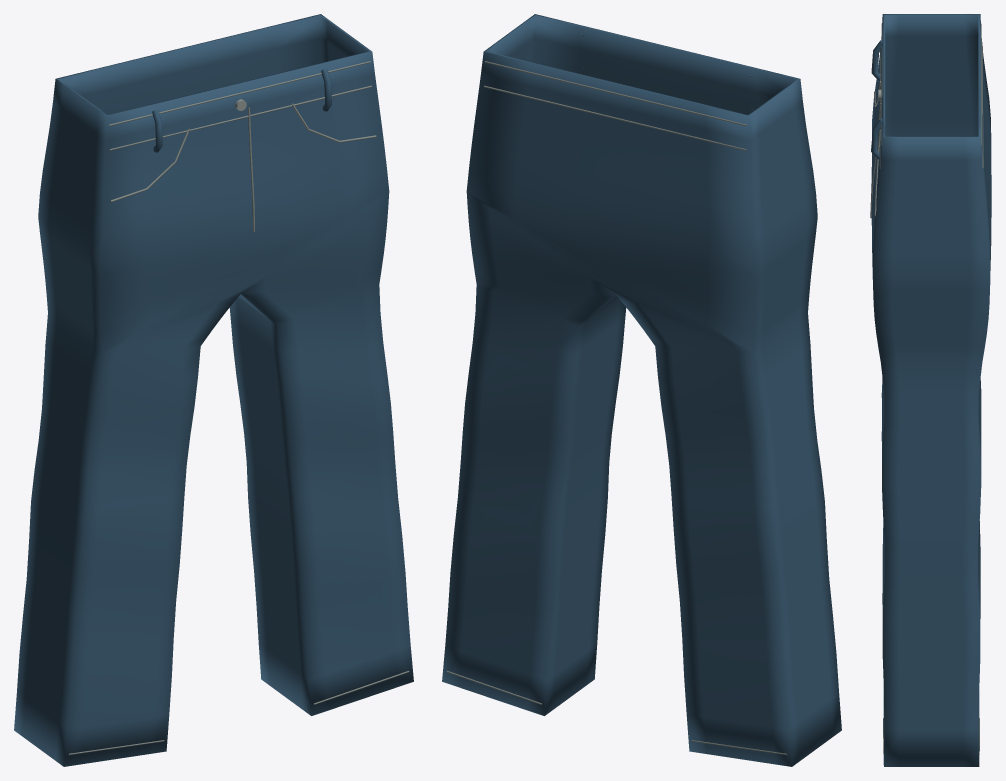
Rendered from A-NEW-20261027-TROUSERS-001_LOD0_R1.fbx.
3 views of the same model, side by side, from view 1: azimuth 30°, elevation 25°; view 2: azimuth 150°, elevation 25°; view 3: azimuth 270°, elevation 25° (orthographic). The views are drawn at different scales.
Parts seen in each view (by area): view 1: complete hollow trousers cloth; view 2: complete hollow trousers cloth; view 3: complete hollow trousers cloth, front belt loop 1, front belt loop -1.
Boxes of the visible parts, x1=… form: complete hollow trousers cloth: x1=14, y1=14, x2=413, y2=766; complete hollow trousers cloth: x1=442, y1=14, x2=841, y2=766; complete hollow trousers cloth: x1=871, y1=14, x2=991, y2=766; front belt loop 1: x1=871, y1=118, x2=885, y2=159; front belt loop -1: x1=871, y1=40, x2=885, y2=80.
Size of the model in its own units: 58 by 103 by 18.31.
